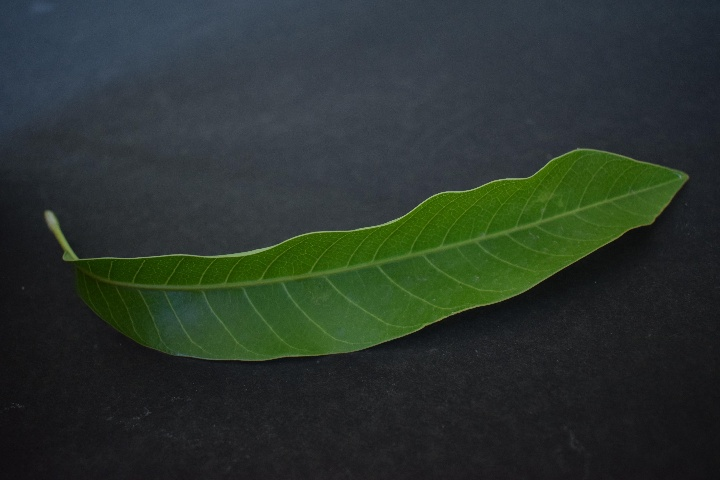healthy: (72, 140, 670, 364)
